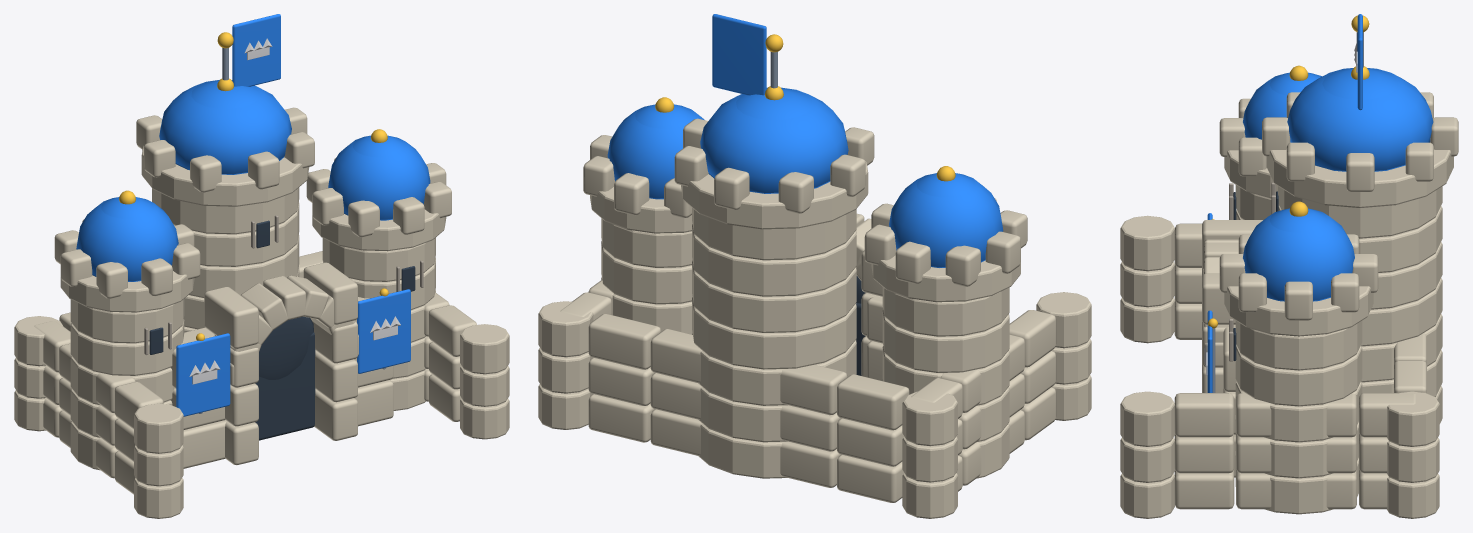
Rendered from castle.glb.
3 renders of one model, left to right at view 1: azimuth 30°, elevation 25°; view 2: azimuth 150°, elevation 25°; view 3: azimuth 270°, elevation 25°, orthographic. The views are drawn at different scales.
Parts seen in each view (by area): view 1: stone_mesh, team_mesh.005, track_mesh, white_mesh.001, gold_mesh.001, stoneDark_mesh; view 2: stone_mesh, team_mesh.005, gold_mesh.001; view 3: stone_mesh, team_mesh.005, gold_mesh.001, stoneDark_mesh.
Boxes of the visible parts, x1,y1,x2,y2 form: stone_mesh: (14,107,509,518); team_mesh.005: (76,14,430,416); track_mesh: (149,220,415,440); white_mesh.001: (189,38,400,384); gold_mesh.001: (119,32,388,340); stoneDark_mesh: (144,215,423,355); stone_mesh: (538,111,1091,518); team_mesh.005: (607,14,1003,267); gold_mesh.001: (655,34,955,181); stone_mesh: (1120,92,1458,518); team_mesh.005: (1207,14,1433,392); gold_mesh.001: (1208,15,1369,328); stoneDark_mesh: (1229,182,1275,361).
Bounding box in the file's own units: 5.08 × 4.81 × 3.58.
